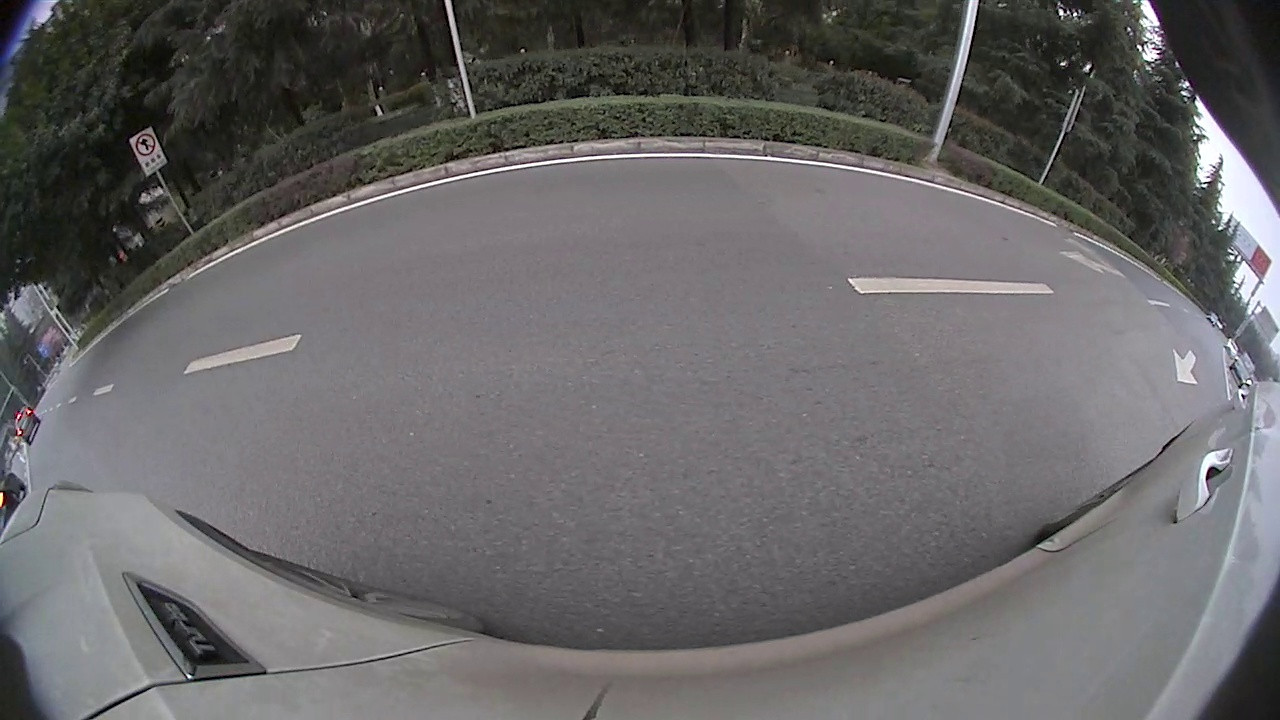car: (12, 404, 42, 447), (1228, 350, 1258, 388)
